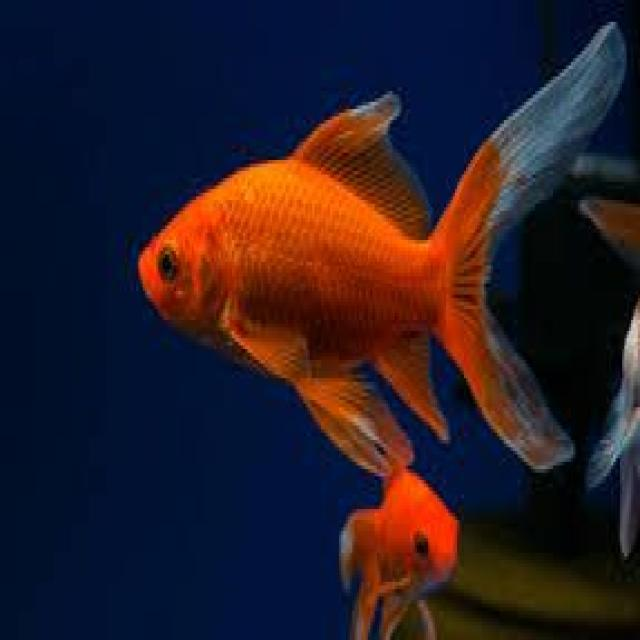Gold-Fish: (126, 10, 632, 525)
